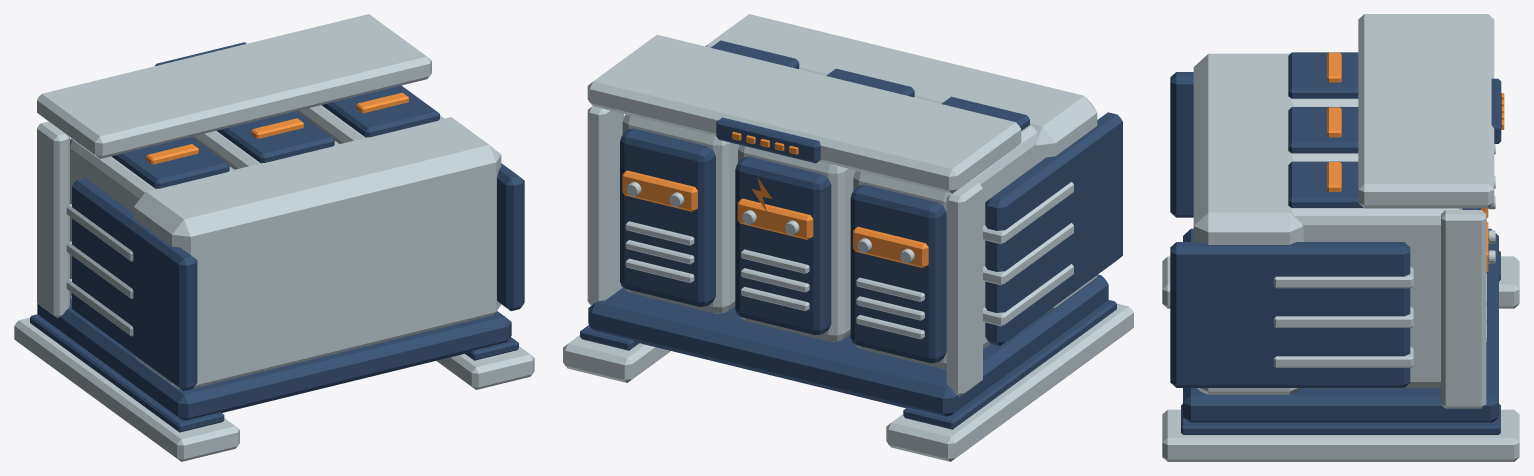
Rendered from facility_battery.glb.
The picture shows the model from 3 angles, left to right: view 1: azimuth 30°, elevation 25°; view 2: azimuth 150°, elevation 25°; view 3: azimuth 270°, elevation 25°; orthographic projection. The views are drawn at different scales.
Visible parts, largest first — view 1: facility_battery; view 2: facility_battery; view 3: facility_battery.
Boxes of the visible parts, x1,y1,x2,y2 form: facility_battery: (14,14,534,461); facility_battery: (563,14,1133,461); facility_battery: (1162,14,1519,461).
Bounding box in the file's own units: 3.3 × 2.25 × 2.68.
